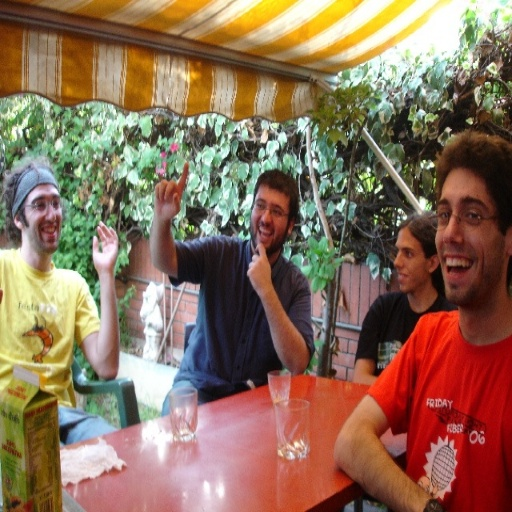hand: (152, 158, 189, 224), (83, 224, 118, 275), (245, 238, 271, 297)
